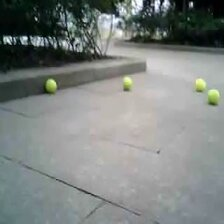tennis: (44, 78, 58, 93), (207, 88, 219, 103), (121, 77, 133, 90), (195, 78, 206, 91)
